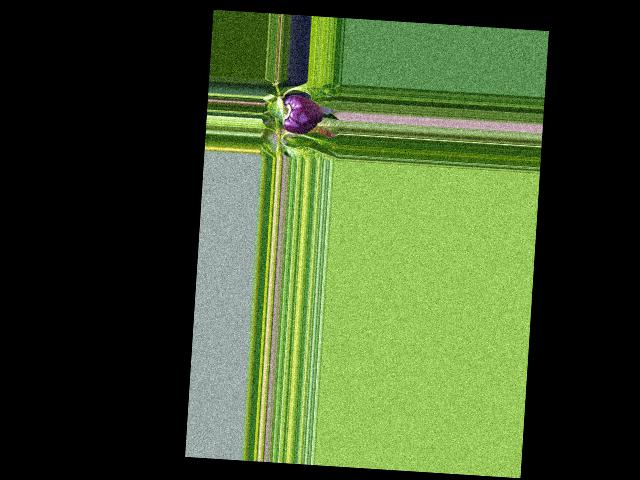bell_pepper: (277, 94, 325, 136)
